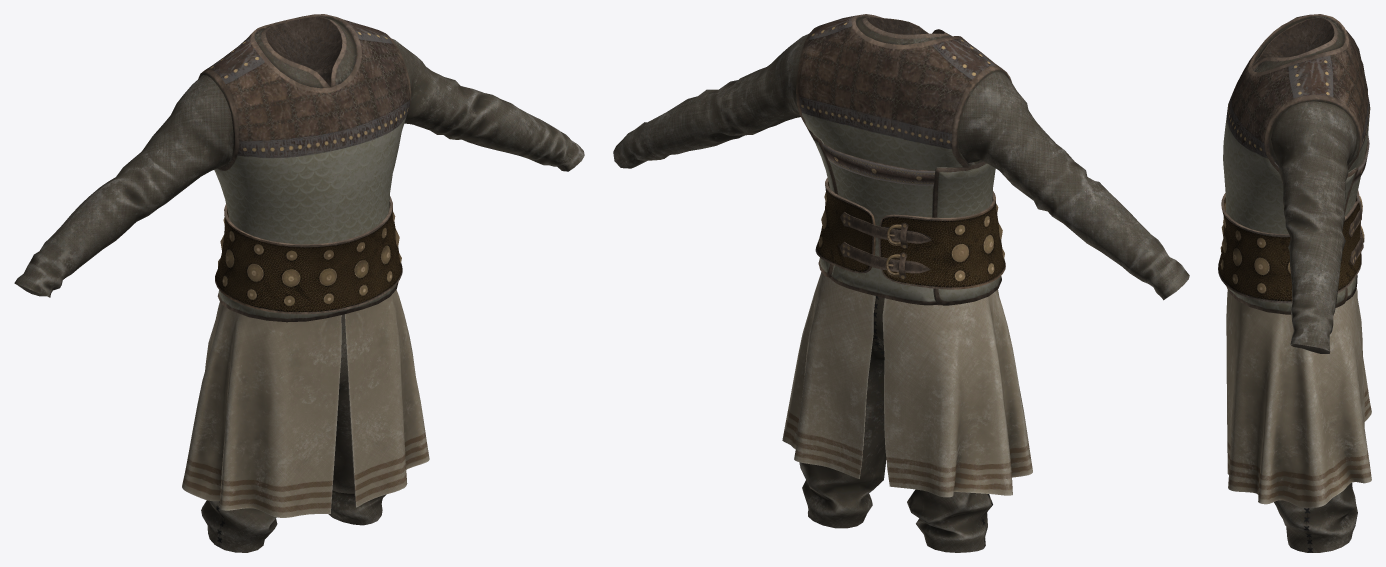
File: dunland_wulf_scalemail_light_b.fbx
The picture shows the model from 3 angles, left to right: view 1: azimuth 30°, elevation 25°; view 2: azimuth 150°, elevation 25°; view 3: azimuth 270°, elevation 25°; orthographic projection. The views are drawn at different scales.
Visible parts, largest first — view 1: dunland_wulf_scalemail_light_b.base, dunland_wulf_scalemail_light_b.skirt, dunland_wulf_scalemail_light_b.belt; view 2: dunland_wulf_scalemail_light_b.base, dunland_wulf_scalemail_light_b.skirt, dunland_wulf_scalemail_light_b.belt, dunland_wulf_scalemail_light_b.prop; view 3: dunland_wulf_scalemail_light_b.base, dunland_wulf_scalemail_light_b.skirt, dunland_wulf_scalemail_light_b.belt.
Boxes of the visible parts, box(x1,y1,x2,y2) form: dunland_wulf_scalemail_light_b.base: box(14, 14, 584, 552); dunland_wulf_scalemail_light_b.skirt: box(182, 289, 429, 517); dunland_wulf_scalemail_light_b.belt: box(215, 196, 402, 314); dunland_wulf_scalemail_light_b.base: box(613, 14, 1189, 552); dunland_wulf_scalemail_light_b.skirt: box(782, 272, 1032, 497); dunland_wulf_scalemail_light_b.belt: box(815, 178, 1005, 289); dunland_wulf_scalemail_light_b.prop: box(822, 144, 935, 185); dunland_wulf_scalemail_light_b.base: box(1223, 14, 1370, 552); dunland_wulf_scalemail_light_b.skirt: box(1226, 288, 1371, 507); dunland_wulf_scalemail_light_b.belt: box(1218, 190, 1364, 303).
Size of the model in its own units: 1.38 by 0.3385 by 1.18.
3 materials, 3 textured.
